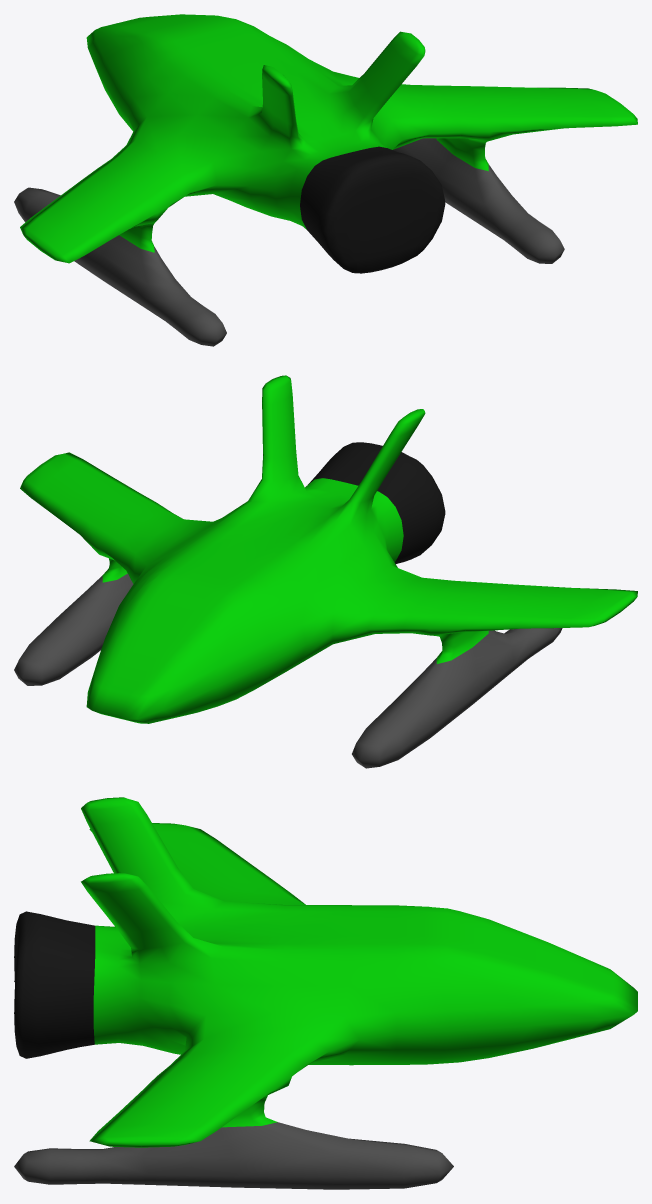
The model's file is spaceship_1.obj.
3 renders of one model, top to bottom at view 1: azimuth 30°, elevation 25°; view 2: azimuth 150°, elevation 25°; view 3: azimuth 270°, elevation 25°, orthographic. The views are drawn at different scales.
Parts seen in each view (by area): view 1: SpaceShip_Cube; view 2: SpaceShip_Cube; view 3: SpaceShip_Cube.
Boxes of the visible parts, x1,y1,x2,y2 form: SpaceShip_Cube: (14, 14, 637, 346); SpaceShip_Cube: (14, 375, 637, 768); SpaceShip_Cube: (14, 797, 637, 1189).
Bounding box in the file's own units: 5.98 × 2.25 × 4.93.
